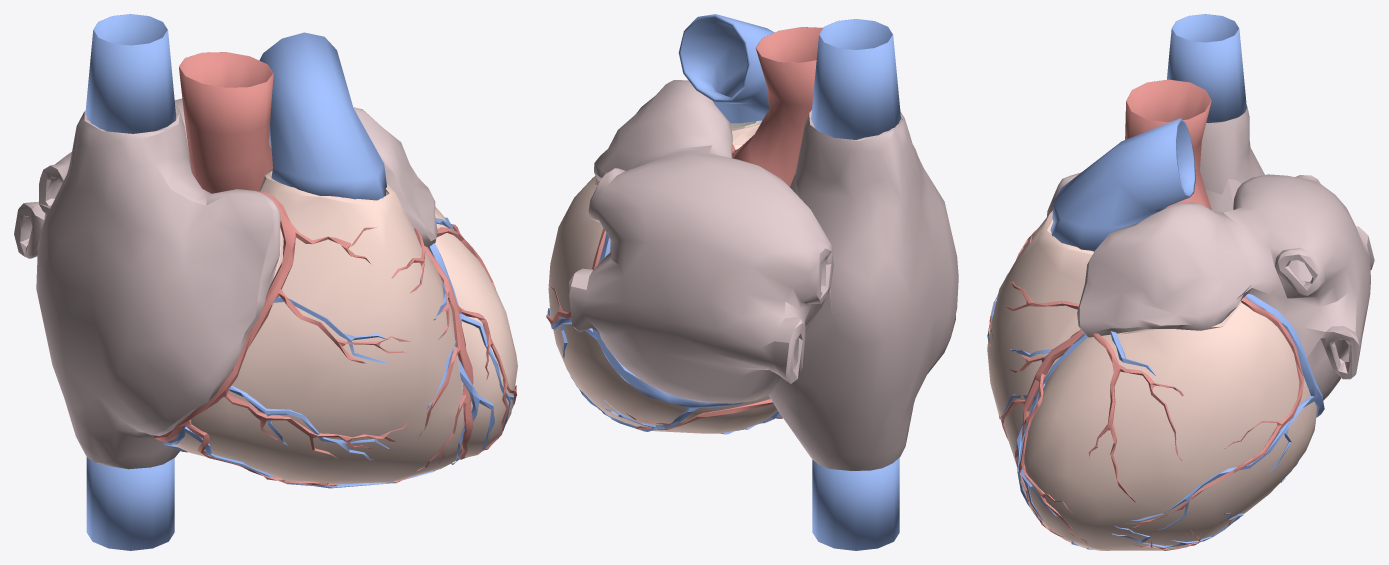
The model's file is heart.glb.
3 views of the same model, side by side, from view 1: azimuth 30°, elevation 25°; view 2: azimuth 150°, elevation 25°; view 3: azimuth 270°, elevation 25° (orthographic). The views are drawn at different scales.
Parts seen in each view (by area): view 1: Right Atrium, Ventricles, Pulmonary Trunk, Ascending Aorta, Superior_Vena_Cava, Inferior_Vena_Cava, Left Atrium, Right Coronary Arteries, Coronary Veins, Left Coronary Arteries; view 2: Left Atrium, Right Atrium, Ventricles, Superior_Vena_Cava, Ascending Aorta, Pulmonary Trunk, Inferior_Vena_Cava, Coronary Veins, Right Coronary Arteries, Left Coronary Arteries; view 3: Ventricles, Left Atrium, Pulmonary Trunk, Superior_Vena_Cava, Left Coronary Arteries, Ascending Aorta, Coronary Veins, Right Atrium.
Boxes of the visible parts, x1,y1,x2,y2 form: Right Atrium: [36, 105, 280, 469]; Ventricles: [172, 169, 517, 484]; Pulmonary Trunk: [259, 32, 386, 200]; Ascending Aorta: [179, 52, 273, 193]; Superior_Vena_Cava: [85, 14, 175, 133]; Inferior_Vena_Cava: [86, 457, 174, 550]; Left Atrium: [14, 98, 437, 258]; Right Coronary Arteries: [154, 191, 421, 486]; Coronary Veins: [163, 217, 513, 488]; Left Coronary Arteries: [391, 224, 516, 471]; Left Atrium: [569, 80, 833, 403]; Right Atrium: [769, 110, 958, 470]; Ventricles: [548, 123, 777, 433]; Superior_Vena_Cava: [811, 19, 900, 139]; Ascending Aorta: [732, 27, 822, 186]; Pulmonary Trunk: [678, 14, 774, 123]; Inferior_Vena_Cava: [812, 458, 899, 550]; Coronary Veins: [547, 233, 781, 434]; Right Coronary Arteries: [598, 399, 782, 429]; Left Coronary Arteries: [546, 144, 735, 326]; Ventricles: [987, 211, 1316, 550]; Left Atrium: [1077, 174, 1374, 400]; Pulmonary Trunk: [1051, 118, 1195, 251]; Superior_Vena_Cava: [1167, 14, 1246, 123]; Left Coronary Arteries: [1001, 281, 1303, 543]; Ascending Aorta: [1125, 79, 1211, 210]; Coronary Veins: [987, 273, 1324, 549]; Right Atrium: [1047, 106, 1264, 216].
Bounding box in the file's own units: 6.01 × 7.39 × 5.71.
